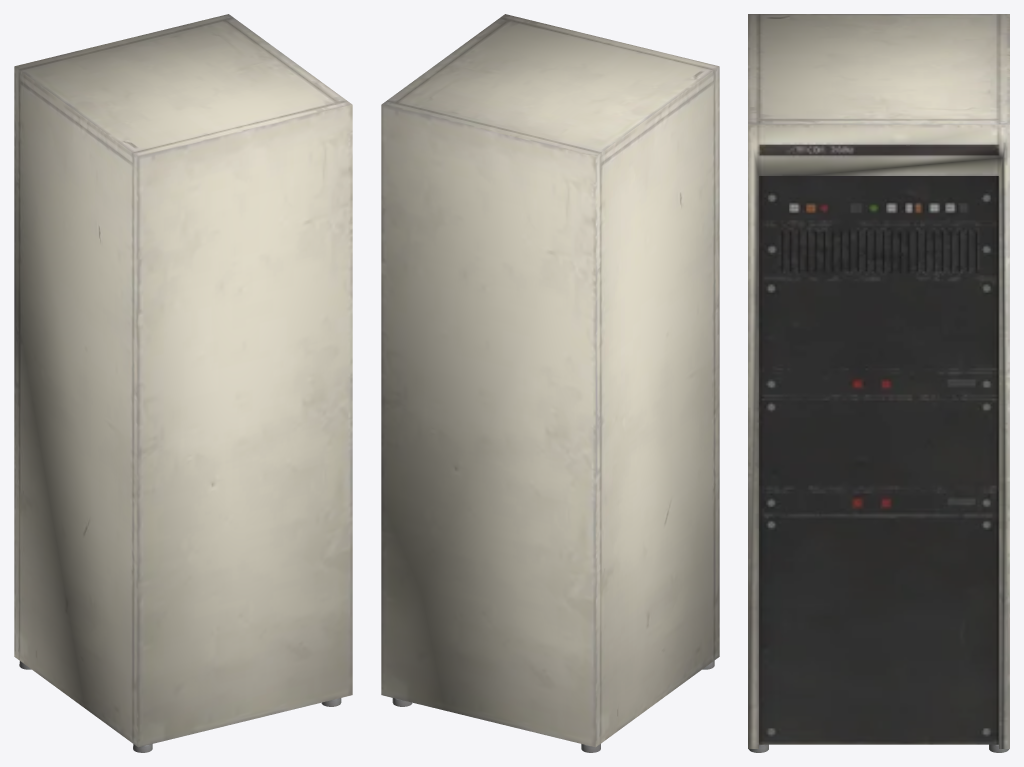
File: computer_cabinet_b.glb
3 views of the same model, side by side, from view 1: azimuth 30°, elevation 25°; view 2: azimuth 150°, elevation 25°; view 3: azimuth 270°, elevation 25° (orthographic). The views are drawn at different scales.
Parts seen in each view (by area): view 1: computer_cabinet_b; view 2: computer_cabinet_b; view 3: computer_cabinet_b.
Boxes of the visible parts, left/top/right/bottom form: computer_cabinet_b: left=14, top=14, right=352, bottom=752; computer_cabinet_b: left=381, top=14, right=719, bottom=752; computer_cabinet_b: left=748, top=14, right=1009, bottom=752.
Bounding box in the file's own units: 0.75 × 2 × 0.75.
1 material, 1 textured.
